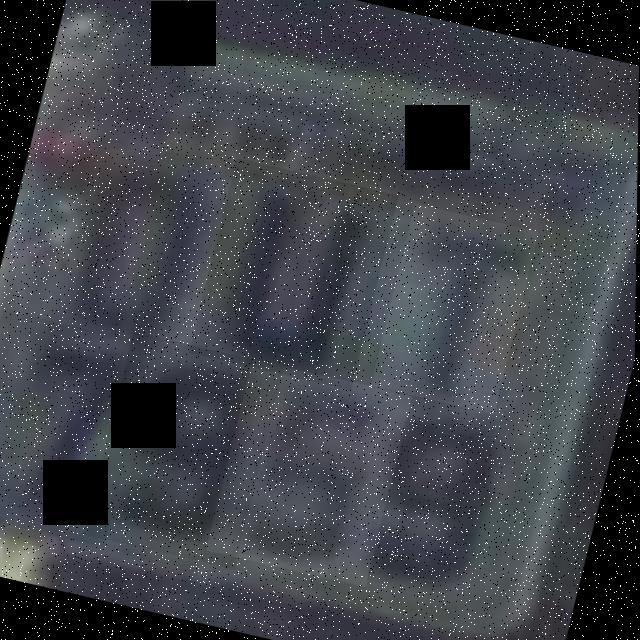5: (207, 359, 413, 587)
7: (0, 309, 154, 547)
9: (84, 332, 285, 568), (332, 380, 536, 611)
T: (371, 203, 539, 414)
U: (189, 158, 400, 390)
